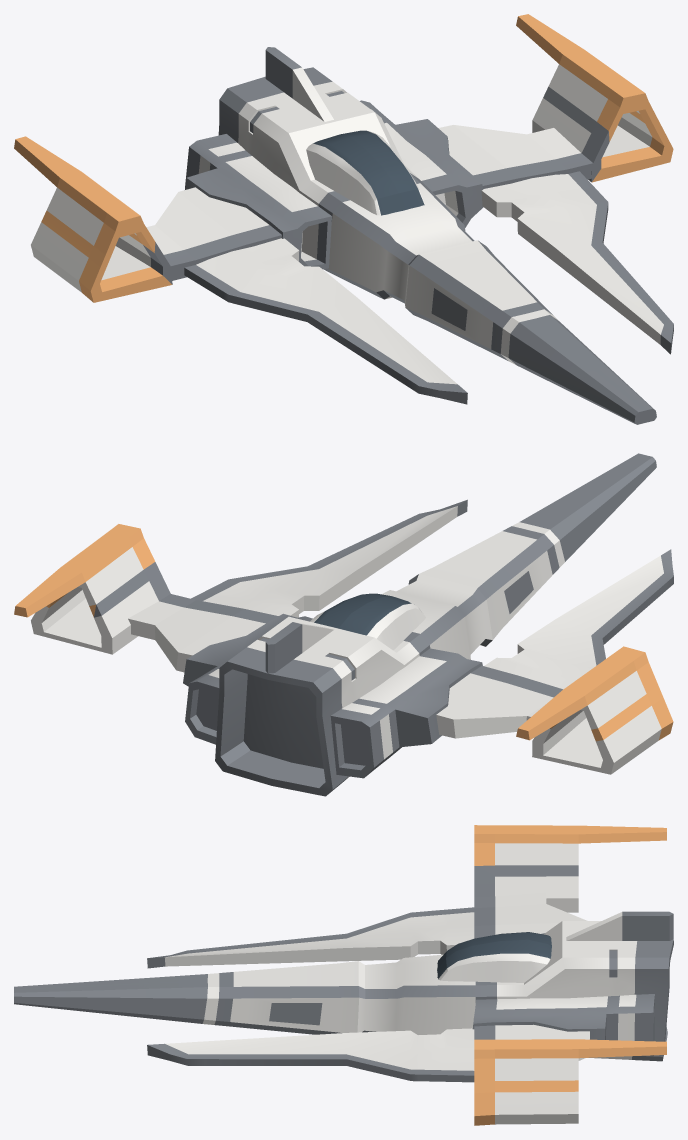
The model's file is ship.glb.
3 renders of one model, top to bottom at view 1: azimuth 30°, elevation 25°; view 2: azimuth 150°, elevation 25°; view 3: azimuth 270°, elevation 25°, orthographic. The views are drawn at different scales.
Parts seen in each view (by area): view 1: Ship; view 2: Ship; view 3: Ship.
Boxes of the visible parts, box(x1,y1,x2,y2) form: Ship: box(14, 14, 673, 424); Ship: box(14, 453, 673, 796); Ship: box(14, 825, 673, 1125).
Size of the model in its own units: 4.58 by 1.08 by 5.14.
